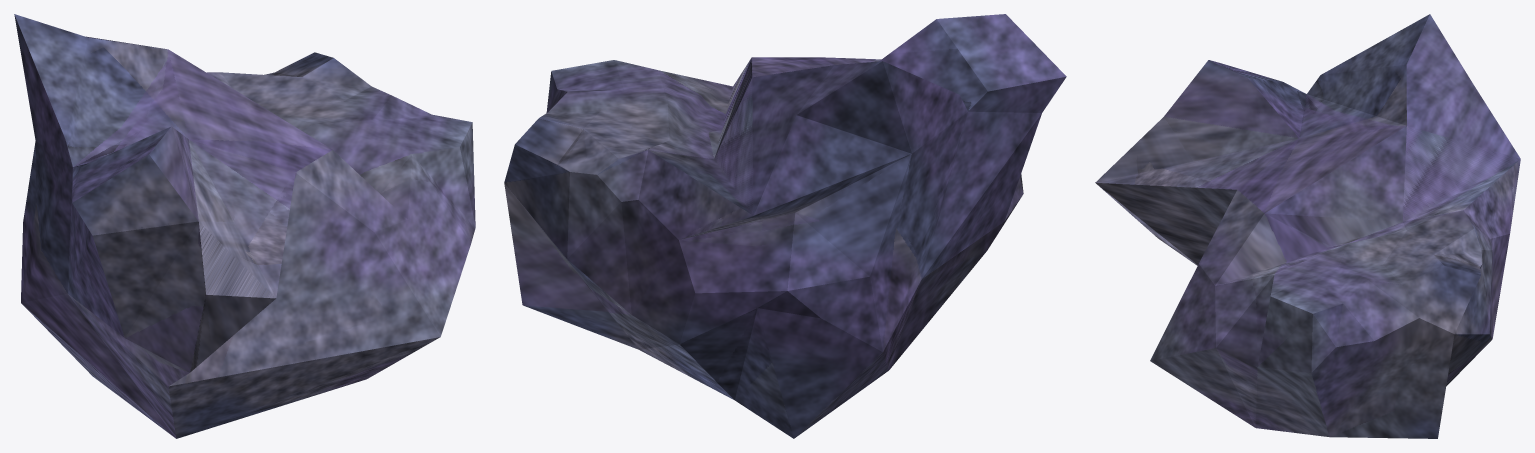
Rendered from asteroid_large1-old.fbx.
3 views of the same model, side by side, from view 1: azimuth 30°, elevation 25°; view 2: azimuth 150°, elevation 25°; view 3: azimuth 270°, elevation 25° (orthographic). The views are drawn at different scales.
Parts seen in each view (by area): view 1: Cube; view 2: Cube; view 3: Cube.
Part boxes in pixels (x1,y1,x2,y2): Cube: (14,14,475,438); Cube: (504,14,1066,438); Cube: (1095,14,1520,438).
Bounding box in the file's own units: 11.68 × 9.53 × 10.97.
